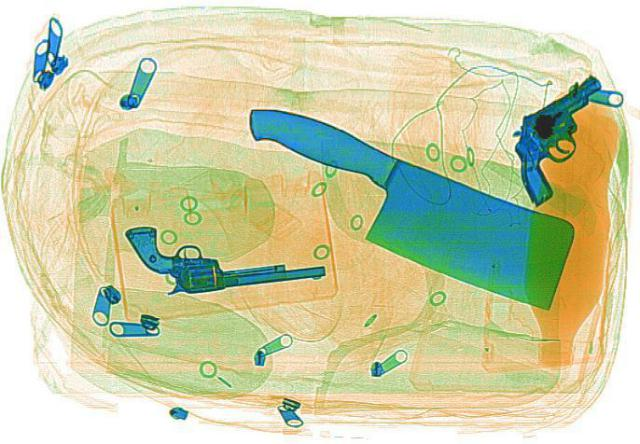Gun: (474, 60, 630, 209), (103, 218, 334, 312)
Knife: (186, 85, 612, 311)
